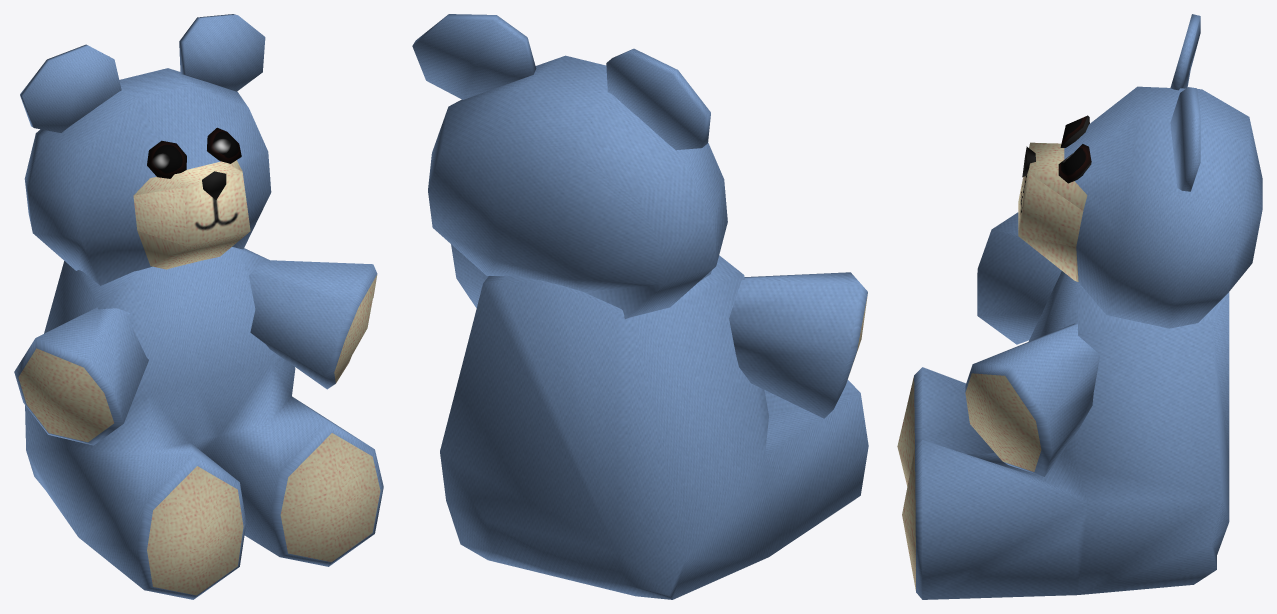
Rendered from Buddy_Bear_C.FBX.
The picture shows the model from 3 angles, left to right: view 1: azimuth 30°, elevation 25°; view 2: azimuth 150°, elevation 25°; view 3: azimuth 270°, elevation 25°; orthographic projection. The views are drawn at different scales.
Parts seen in each view (by area): view 1: Buddy_ Bear; view 2: Buddy_ Bear; view 3: Buddy_ Bear.
Part boxes in pixels (left/top/right/bottom): Buddy_ Bear: left=14, top=14, right=383, bottom=599; Buddy_ Bear: left=412, top=14, right=868, bottom=599; Buddy_ Bear: left=897, top=14, right=1262, bottom=599.
Bounding box in the file's own units: 55.36 × 71.18 × 46.3.
